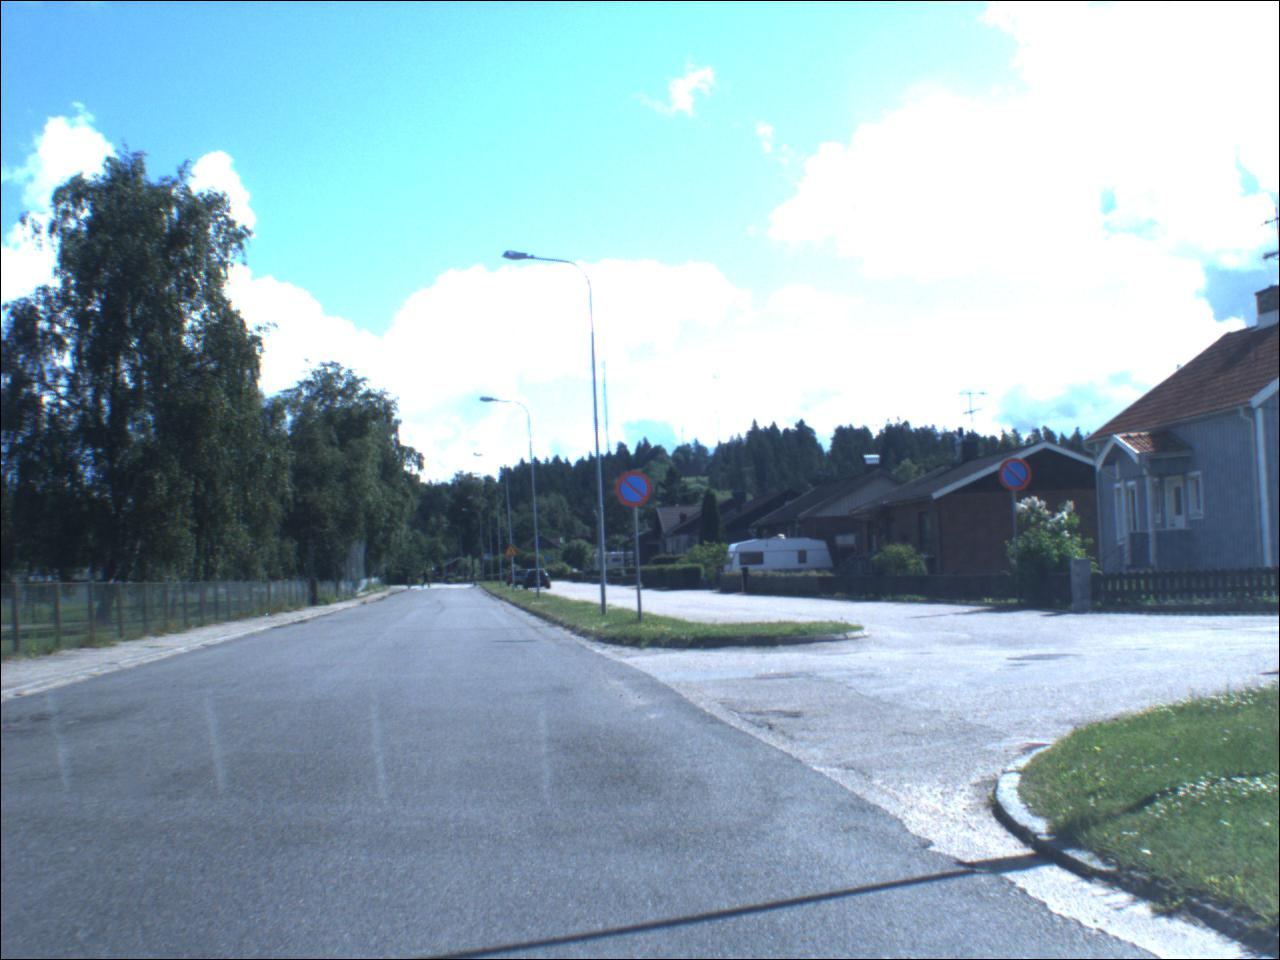NO_PARKING: (998, 454, 1037, 498), (618, 472, 656, 509)
WARNING: (508, 544, 522, 559)
WARNING_PEDESTRIANS: (485, 555, 493, 562)
